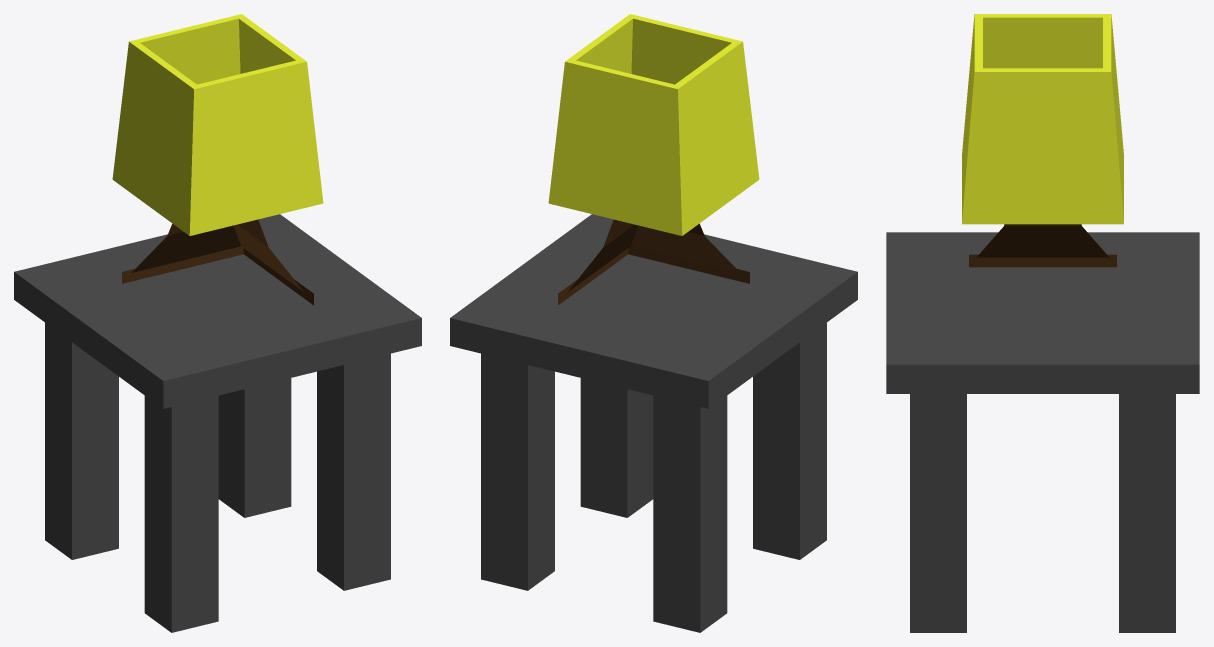
File: tableLamp_01.fbx
3 renders of one model, left to right at view 1: azimuth 30°, elevation 25°; view 2: azimuth 150°, elevation 25°; view 3: azimuth 270°, elevation 25°, orthographic. The views are drawn at different scales.
Parts seen in each view (by area): view 1: Table; view 2: Table; view 3: Table.
Boxes of the visible parts, x1,y1,x2,y2 form: Table: (14,14,421,632); Table: (450,14,857,632); Table: (886,14,1199,632).
Bounding box in the file's own units: 51.28 × 96.3 × 51.28.
